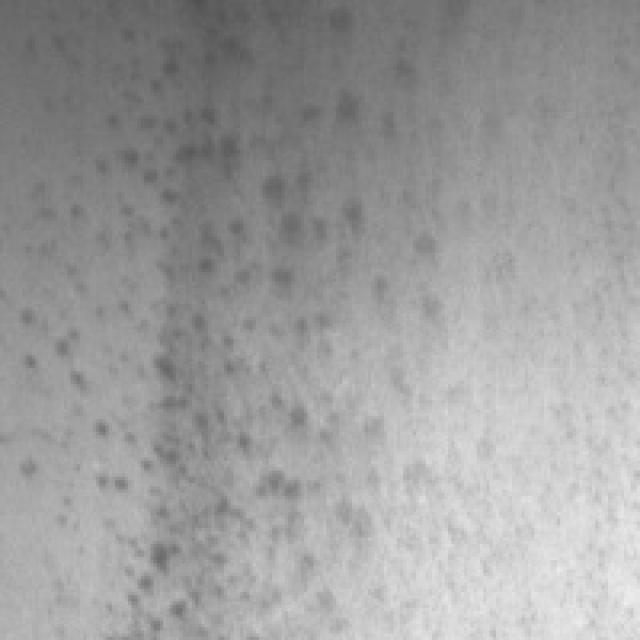pitted_surface: (29, 0, 438, 637)
